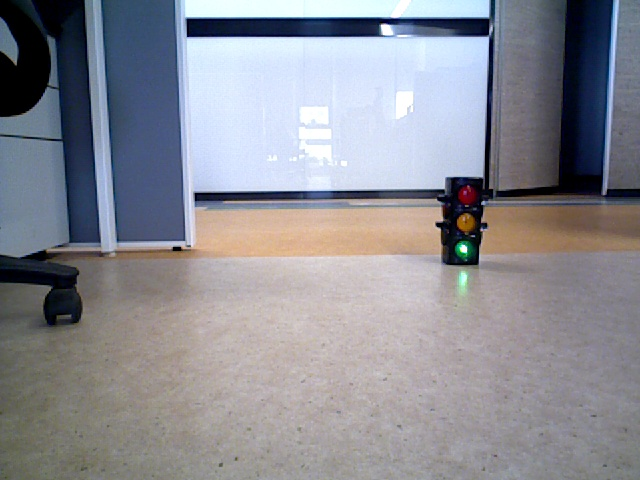green: (446, 177, 479, 261)
